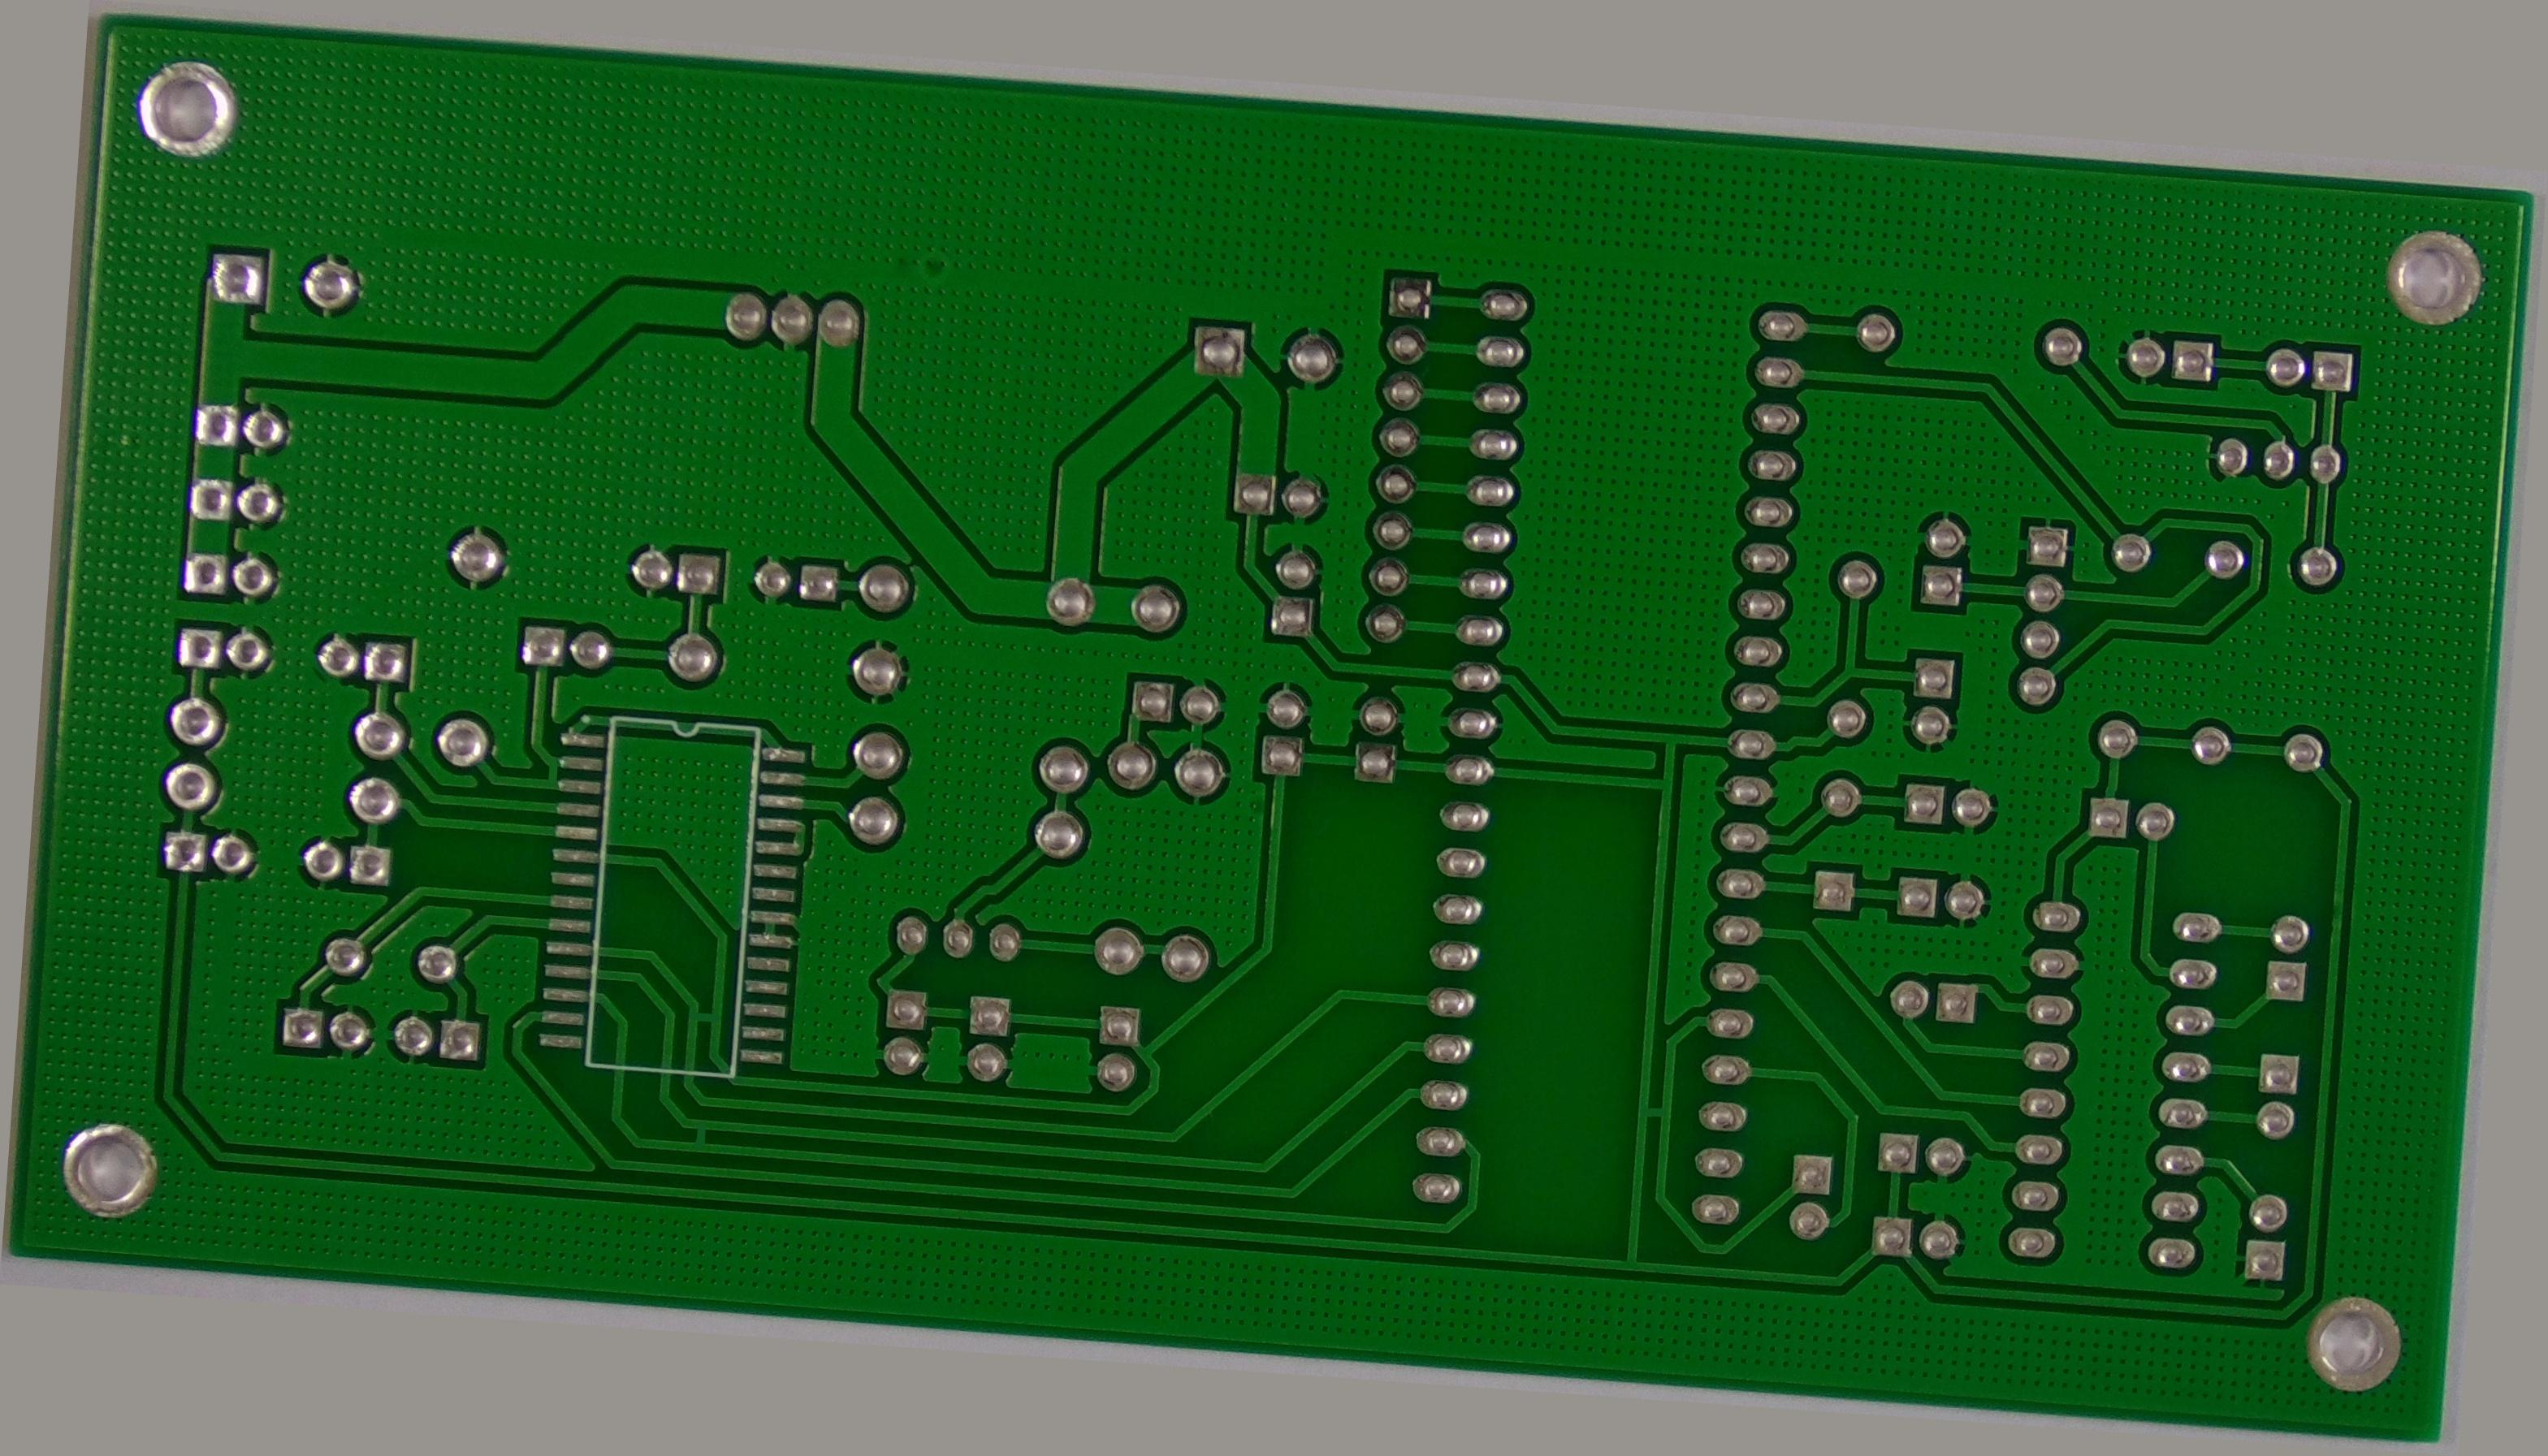short: (1668, 1106, 1729, 1159), (676, 1069, 732, 1122), (686, 1209, 733, 1258), (520, 814, 548, 849)
